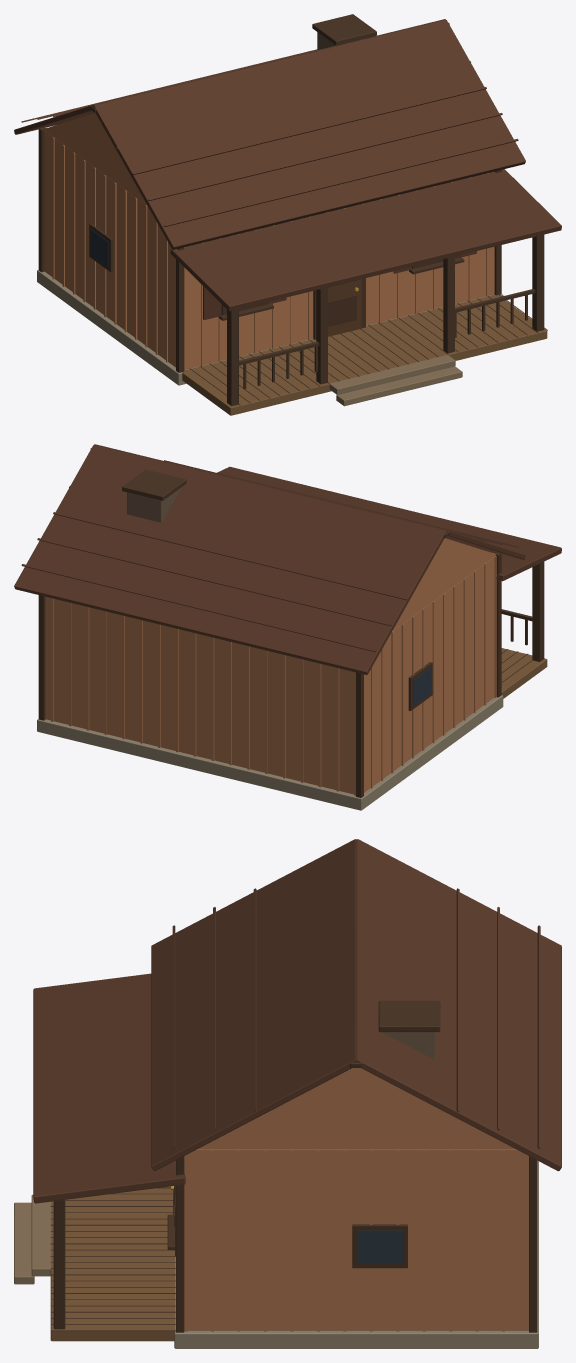
File: WardenHouse.glb
3 renders of one model, top to bottom at view 1: azimuth 30°, elevation 25°; view 2: azimuth 150°, elevation 25°; view 3: azimuth 270°, elevation 25°, orthographic. The views are drawn at different scales.
Parts seen in each view (by area): view 1: WardenHouse.001; view 2: WardenHouse.001; view 3: WardenHouse.001.
Boxes of the visible parts, x1,y1,x2,y2 form: WardenHouse.001: (14,14,561,415); WardenHouse.001: (14,444,561,810); WardenHouse.001: (14,839,561,1348).
Bounding box in the file's own units: 8.95 × 5.6 × 9.32.
